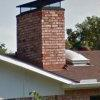Chimney: (11, 3, 70, 69)
